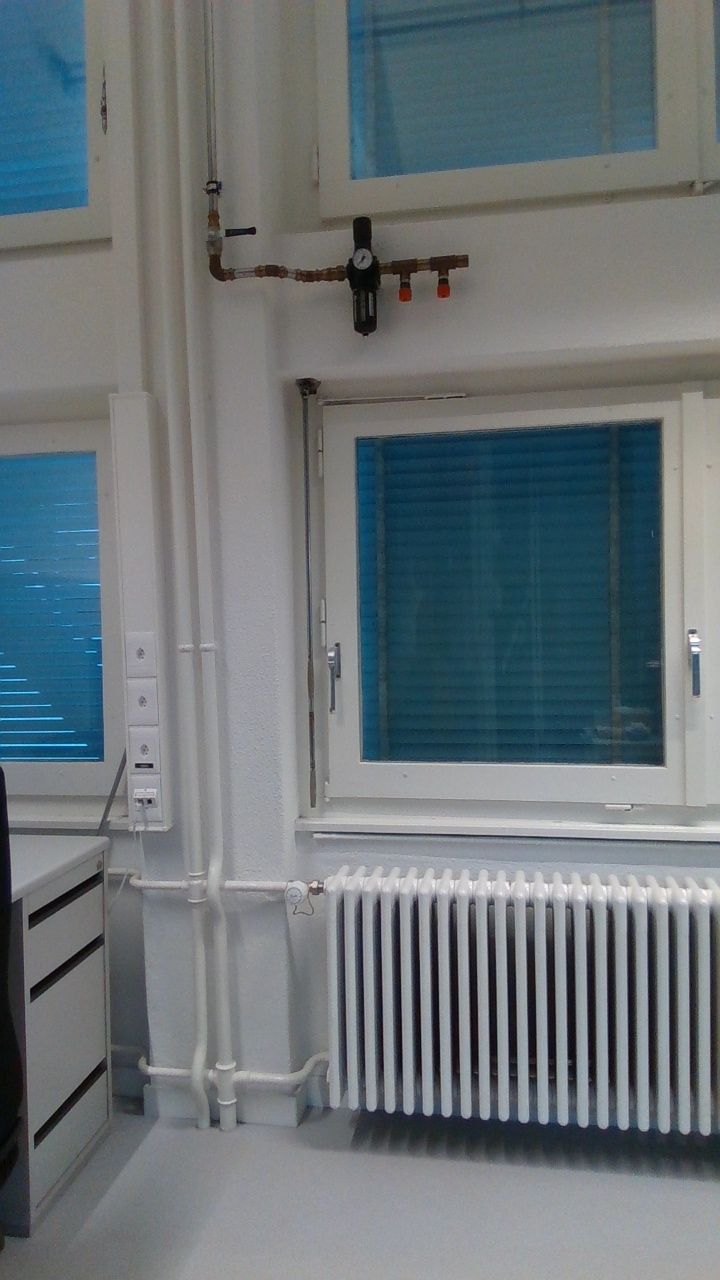Knob_Radiator: (278, 875, 316, 912)
Radiator: (320, 858, 720, 1144)
